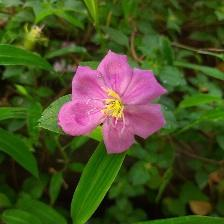malabar melastome: (60, 50, 170, 155)
